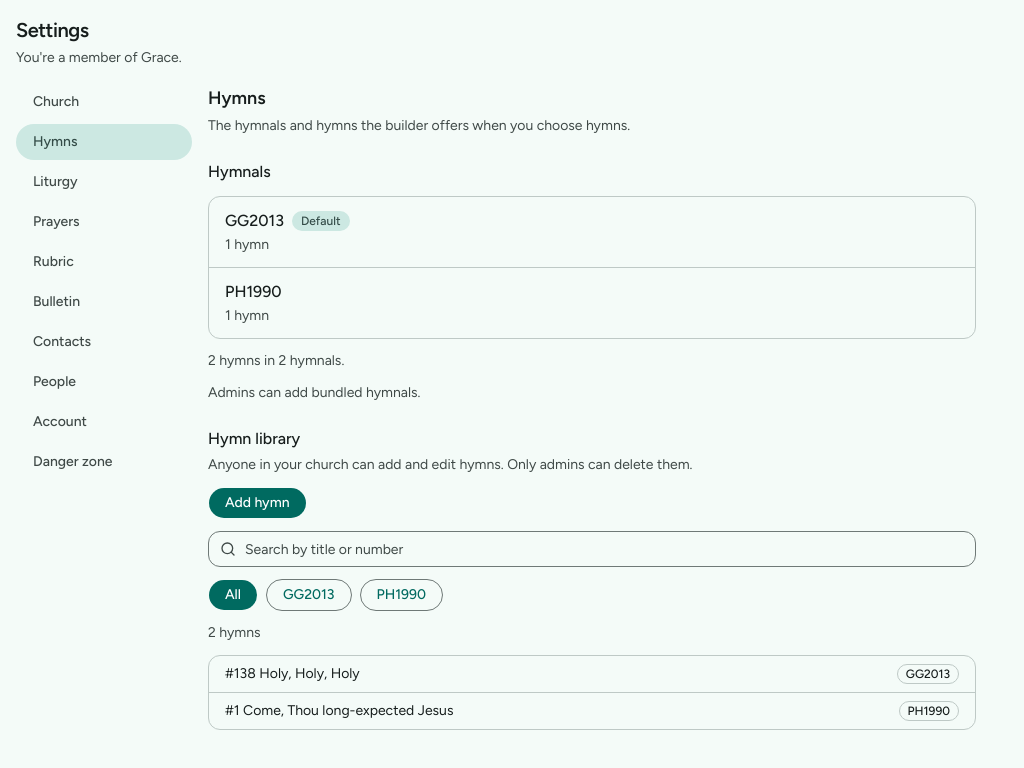
Test case: Settings → Hymns, the Hymn library (slice 6a-2) › filters by hymnal with chips when the church has several, and badges each row
This screenshot has width=1024, height=768.
Check: the buttons read "#138 Holy, Holy, HolyGG2013", "#1 Come, Thou long-expected JesusPH1990", in this order, box [209,656,975,692]; [209,693,975,729]
Step 1. Click the button "PH1990" → (401, 595), box [360,579,443,611]
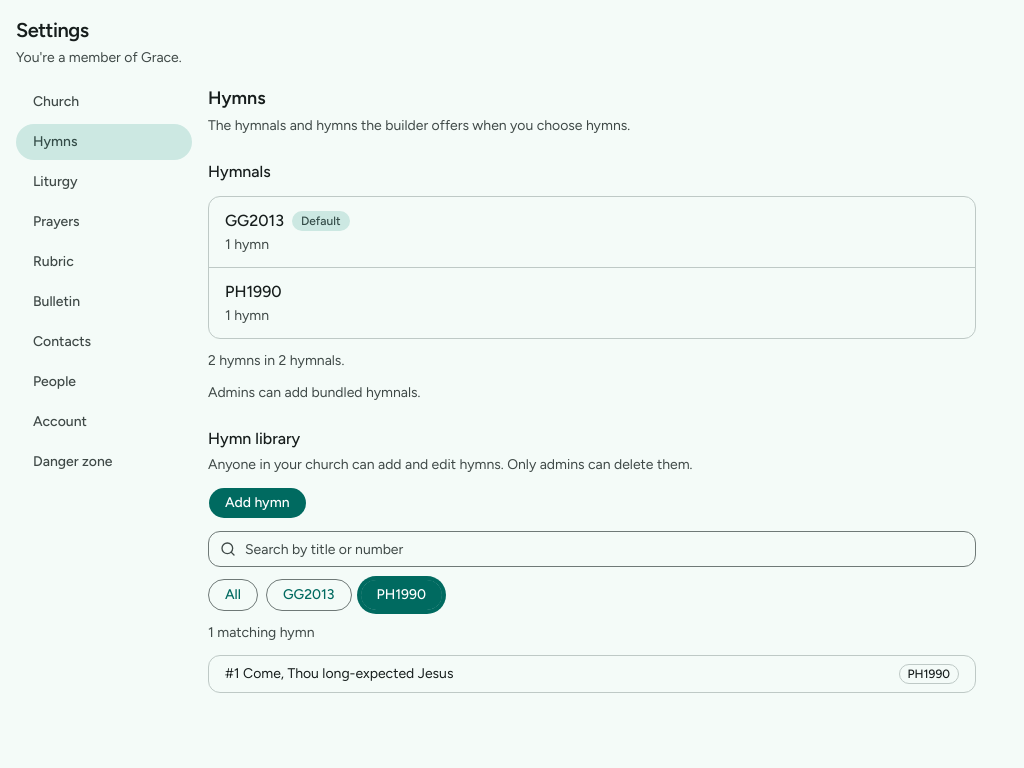
Check: the text "1 matching hymn" is shown, box [208,624,314,641]
